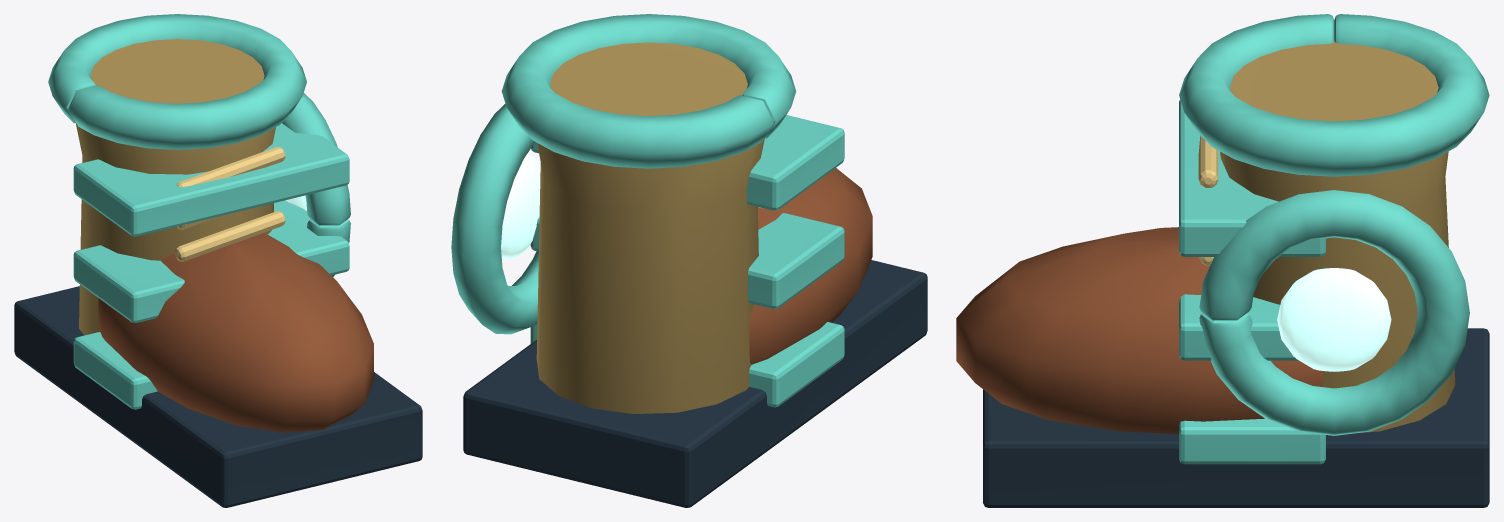
File: item_069.glb
The picture shows the model from 3 angles, left to right: view 1: azimuth 30°, elevation 25°; view 2: azimuth 150°, elevation 25°; view 3: azimuth 270°, elevation 25°; orthographic projection. The views are drawn at different scales.
Visible parts, largest first — view 1: Item_069_axle_walking_boots; view 2: Item_069_axle_walking_boots; view 3: Item_069_axle_walking_boots.
Boxes of the visible parts, bbox=[...] form: Item_069_axle_walking_boots: bbox=[14, 14, 422, 507]; Item_069_axle_walking_boots: bbox=[451, 14, 927, 507]; Item_069_axle_walking_boots: bbox=[956, 14, 1489, 507].
Size of the model in its own units: 0.2095 by 0.2552 by 0.3262.
